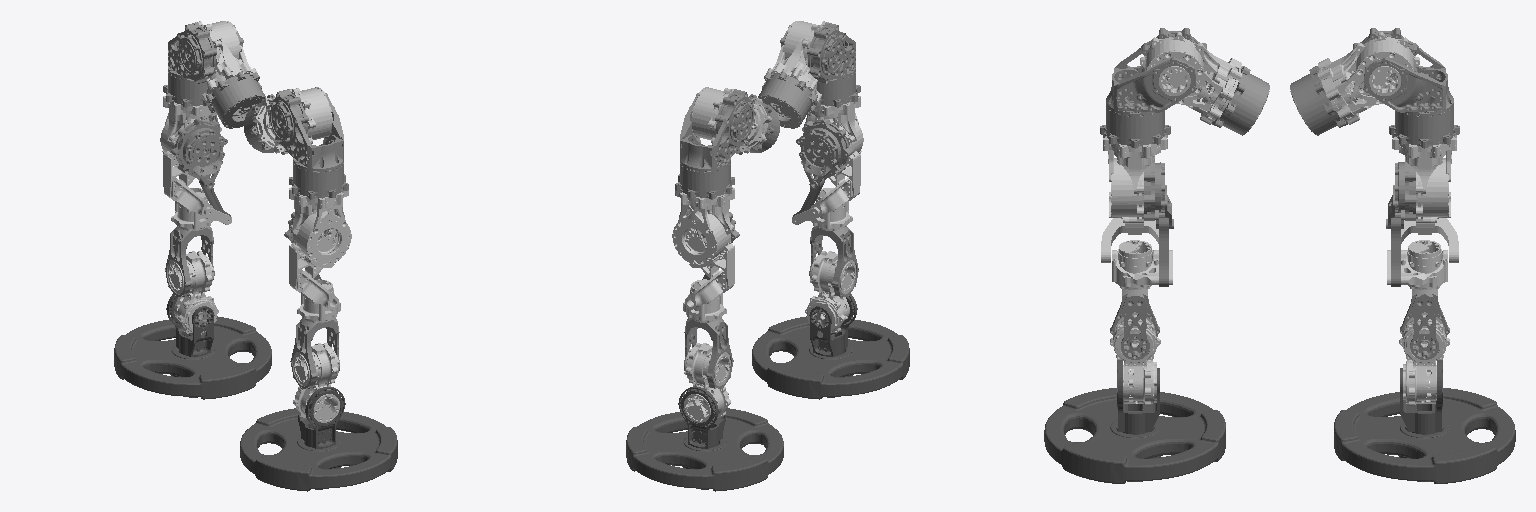
--- What the picture shows (computed from the rendered views, not written in the file) ---
The picture shows the robot from 3 angles, left to right: view 1: azimuth 30°, elevation 25°; view 2: azimuth 150°, elevation 25°; view 3: azimuth 270°, elevation 25°; orthographic projection.
Model raipal_stub-5 with 30 links and 29 joints (18 revolute, 11 fixed), rooted at world, posed all joints at 0.
Links seen in each view (by area): view 1: R_stub, L_stub, R_shoulder, R_humerus, L_shoulder, L_humerus, L_elb_input, R_carpal, L_carpal, L_base, R_collar, L_collar (+5 smaller); view 2: L_stub, R_stub, L_shoulder, L_humerus, R_shoulder, R_humerus, R_elb_input, L_carpal, R_carpal, R_base, L_collar, R_collar (+5 smaller); view 3: R_stub, L_stub, L_shoulder, R_shoulder, R_collar, L_collar, R_humerus, L_humerus, R_carpal, L_carpal, R_ulna, L_ulna (+8 smaller).
Link boxes in pixels (x1,y1,x2,y2): R_stub: [240, 387, 397, 491]; L_stub: [114, 294, 271, 399]; R_shoulder: [268, 89, 348, 199]; R_humerus: [289, 187, 351, 309]; L_shoulder: [163, 22, 243, 107]; L_humerus: [160, 96, 221, 217]; L_elb_input: [171, 119, 227, 189]; R_carpal: [293, 343, 339, 422]; L_carpal: [168, 251, 218, 334]; L_base: [206, 71, 265, 128]; R_collar: [252, 87, 332, 153]; L_collar: [195, 21, 259, 102]; L_stub: [626, 386, 783, 491]; R_stub: [752, 294, 909, 399]; L_shoulder: [675, 89, 755, 199]; L_humerus: [672, 187, 734, 309]; R_shoulder: [780, 22, 860, 107]; R_humerus: [802, 96, 863, 217]; R_elb_input: [796, 119, 852, 189]; L_carpal: [684, 343, 730, 422]; R_carpal: [805, 251, 855, 334]; R_base: [758, 71, 817, 128]; L_collar: [691, 87, 771, 153]; R_collar: [764, 21, 828, 102]; R_stub: [1044, 360, 1225, 483]; L_stub: [1334, 360, 1515, 483]; L_shoulder: [1353, 28, 1459, 148]; R_shoulder: [1100, 28, 1206, 148]; R_collar: [1140, 32, 1241, 124]; L_collar: [1318, 32, 1419, 124]; R_humerus: [1101, 135, 1167, 262]; L_humerus: [1392, 135, 1458, 262]; R_carpal: [1110, 313, 1160, 405]; L_carpal: [1399, 313, 1449, 405]; R_ulna: [1112, 240, 1172, 289]; L_ulna: [1387, 240, 1447, 289].
Size in the robot's own frame: 0.276 by 0.716 by 0.7385 metres.
22 mesh visuals loaded from 21 distinct referenced files (21 binary STL).

The robot description file, URDF, robot "raipal_stub-5":
<?xml version="1.0" encoding="utf-8"?>
<robot name="raipal_stub-5">
  <!-- [URDF-WRITER] Created with urdf-writer script (by CHH) on 2026-01-27 21:55:36.760474-->

  <!-- [URDF-WRITER] from module [_fixed-base] -->

  <!-- this link makes the robot fixed-base in RAISIM -->
  <link name="world"></link>

  <link name="base"></link>

  <joint name="base_fix" type="fixed">
    <origin xyz="0 0 0.8" rpy="0 0 0"/>
    <parent link="world" />
    <child link="base" />
    <axis xyz="0 0 0" />
  </joint>


  <!-- [URDF-WRITER] from module [raipal_R] -->

  <link name="R_base">
    <!-- CHH / 2025-09-01-20:14 -->
    <!-- link name: [R_base]-->
    <!-- frame: [R0_base]-->
    <inertial>
      <origin 
        xyz="-0.00013000 -0.06389000 -0.05559000"
        rpy="0 0 0" />
      <mass value="0.79658000" />
      <inertia
          ixx="0.00074742"
          ixy="1.892780e-6"
          ixz="-1.179560e-6"
          iyy="0.00098187"
          iyz="-0.00013334"
          izz="0.00082394" />
    </inertial>
    <visual>
      <origin
        xyz="0 0 0"
        rpy="0 0 0" />
      <geometry>
        <mesh filename="../meshes/R_base.STL" />
      </geometry>
      <material name="">
        <color rgba=".6 .6 .6 1" />
      </material>
    </visual>
    <!--<collision>
      <origin
        xyz="0 0 0"
        rpy="0 0 0" />
      <geometry>
        <mesh filename="../meshes/R_base.STL" />
      </geometry>
    </collision>-->
  </link>

  <joint name="R_fix" type="fixed">
    <origin xyz="0 0 0" rpy="0 0 0"/>
    <parent link="base" />
    <child link="R_base" />
    <axis xyz="0 0 0" />
  </joint>

  <link name="R_collar">
    <!-- CHH / 2025-09-01-20:14 -->
    <!-- link name: [R_collar]-->
    <!-- frame: [R1_flexion]-->
    <inertial>
      <origin 
        xyz="0.00471000 -1.000000e-5 0.10057000"
        rpy="0 0 0" />
      <mass value="1.72283000" />
      <inertia
          ixx="0.00466072"
          ixy="5.127800e-7"
          ixz="-0.00028338"
          iyy="0.00434837"
          iyz="8.010400e-7"
          izz="0.00167296" />
    </inertial>
    <visual>
      <origin
        xyz="0 0 0"
        rpy="0 0 0" />
      <geometry>
        <mesh filename="../meshes/R_collar.STL" />
      </geometry>
      <material name="">
        <color rgba="0.8 0.8 0.8 1" />
      </material>
    </visual>
    <!--<collision>
      <origin
        xyz="0 0 0"
        rpy="0 0 0" />
      <geometry>
        <mesh filename="../meshes/R_collar.STL" />
      </geometry>
    </collision>-->
  </link>

  <joint name="R1_flexion" type="revolute"> <!--[0]-->
    <origin
      xyz="0 -0.037198 -0.0709"
      rpy="1.0472 0 0" />
    <parent link="R_base" />
    <child link="R_collar" />
    <axis
      xyz="0 0 1" />
    <limit
      lower="-1.57"
      upper="3.14"
      effort="181"
      velocity="13.9" />
    <dynamics rotor_inertia = "0.0576402034658611" /> <!-- CHH / 2025-09-01-20:30-->
  </joint>

  <link name="R_shoulder">
    <!-- CHH / 2025-09-01-20:14 -->
    <!-- link name: [R_shoulder]-->
    <!-- frame: [R2_adduction]-->
    <inertial>
      <origin 
        xyz="-0.03309000 0.04277000 0.04408000"
        rpy="0 0 0" />
      <mass value="1.92988000" />
      <inertia
          ixx="0.00554587"
          ixy="0.00224326"
          ixz="-0.00046924"
          iyy="0.00422168"
          iyz="0.00058524"
          izz="0.00699049" />
    </inertial>
    <visual>
      <origin
        xyz="0 0 0"
        rpy="0 0 0" />
      <geometry>
        <mesh filename="../meshes/R_shoulder.STL" />
      </geometry>
      <material name="">
        <color rgba="0.6 0.6 0.6 1" />
      </material>
    </visual>
    <!--<collision>
      <origin
        xyz="0 0 0"
        rpy="0 0 0" />
      <geometry>
        <mesh filename="../meshes/R_shoulder.STL" />
      </geometry>
    </collision>-->
  </link>

  <joint name="R2_adduction" type="revolute"> <!--[1]-->
    <origin
      xyz="0.0373 0 0.1418"
      rpy="-1.5707963267949 1.0472 1.5707963267949" />
    <parent link="R_collar" />
    <child link="R_shoulder" />
    <axis
      xyz="0 0 -1" />
    <limit
      lower="-2.618"
      upper="0.488"
      effort="181"
      velocity="13.9" />
    <dynamics rotor_inertia = "0.0576402034658611" /> <!-- CHH / 2025-09-01-20:30-->
  </joint>

  <link name="R_humerus">
    <!-- CHH / 2025-09-01-20:14 -->
    <!-- link name: [R_humerus]-->
    <!-- frame: [R3_rotation]-->
    <inertial>
      <origin 
        xyz="-0.00369000 0.00351000 0.11625000"
        rpy="0 0 0" />
      <mass value="1.96262000" />
      <inertia
          ixx="0.00777442"
          ixy="-1.197057e-5"
          ixz="0.00065917"
          iyy="0.00822155"
          iyz="-0.00015972"
          izz="0.00201683" />
    </inertial>
    <visual>
      <origin
        xyz="0 0 0"
        rpy="0 0 0" />
      <geometry>
        <mesh filename="../meshes/R_humerus.STL" />
      </geometry>
      <material name="">
        <color rgba="0.8 0.8 0.8 1" />
      </material>
    </visual>
    <!--<collision>
      <origin
        xyz="0 0 0"
        rpy="0 0 0" />
      <geometry>
        <mesh filename="../meshes/R_humerus.STL" />
      </geometry>
    </collision>-->
  </link>

  <joint name="R3_rotation" type="revolute"> <!--[2]-->
    <origin
      xyz="-0.06 0.06025 0.0373"
      rpy="-1.5707963267949 1.5707963267949 0" />
    <parent link="R_shoulder" />
    <child link="R_humerus" />
    <axis
      xyz="0 0 -1" />
    <limit
      lower="-3.14"
      upper="3.14"
      effort="181"
      velocity="13.9" />
    <dynamics rotor_inertia = "0.0576402034658611" /> <!-- CHH / 2025-09-01-20:30-->
  </joint>

  <link name="R_elb_input">
    <!-- CHH / 2025-09-01-20:14 -->
    <!-- link name: [R_elb_input]-->
    <!-- frame: [R4a_elbow_power]-->
    <inertial>
      <origin 
        xyz="-2.000000e-5 0.00335000 0.05897000"
        rpy="0 0 0" />
      <mass value="0.83412000" />
      <inertia
          ixx="0.00071114"
          ixy="7.660000e-7"
          ixz="-9.255500e-7"
          iyy="0.00059983"
          iyz="-5.504818e-5"
          izz="0.00080767" />
    </inertial>
    <visual>
      <origin
        xyz="0 0 0"
        rpy="0 0 0" />
      <geometry>
        <mesh filename="../meshes/R_elb_input.STL" />
      </geometry>
      <material name="">
        <color rgba="0.6 0.6 0.6 1" />
      </material>
    </visual>
    <!--<collision>
      <origin
        xyz="0 0 0"
        rpy="0 0 0" />
      <geometry>
        <mesh filename="../meshes/R_elb_input.STL" />
      </geometry>
    </collision>-->
  </link>

  <joint name="R4a_elbow_power" type="revolute"> <!--[3]-->
    <origin
      xyz="0 0.0373 0.1418"
      rpy="1.5707963267949 0 0" />
    <parent link="R_humerus" />
    <child link="R_elb_input" />
    <axis
      xyz="0 0 1" />
    <limit
      lower="0"
      upper="1.556"
      effort="181"
      velocity="13.9" />
    <dynamics rotor_inertia = "0.0576402034658611" /> <!-- CHH / 2025-09-01-20:30-->
  </joint>

  <link name="R_elb_bar">
    <!-- CHH / 2025-09-01-20:14 -->
    <!-- link name: [R_elb_bar]-->
    <!-- frame: [R4b_elbow_bar_input]-->
    <inertial>
      <origin 
        xyz="0.04274000 0.00159000 -4.000000e-5"
        rpy="0 0 0" />
      <mass value="0.05314000" />
      <inertia
          ixx="2.335610e-6"
          ixy="0.0"
          ixz="0.0"
          iyy="6.149582e-5"
          iyz="-3.110000e-9"
          izz="6.199993e-5" />
    </inertial>
    <visual>
      <origin
        xyz="0 0 0"
        rpy="0 0 0" />
      <geometry>
        <mesh filename="../meshes/R_elb_bar.STL" />
      </geometry>
      <material name="">
        <color rgba="0.5 0.5 0.5 1" />
      </material>
    </visual>
    <!--<collision>
      <origin
        xyz="0 0 0"
        rpy="0 0 0" />
      <geometry>
        <mesh filename="../meshes/R_elb_bar.STL" />
      </geometry>
    </collision>-->
  </link>

  <joint name="R4b_elbow_bar_input" type="revolute"> <!--[4-unpowered]-->
    <origin
      xyz="0.00134978286029327 0.0599848154638326 0.0812119041053838"
      rpy="0 0 1.12941902735751" />
    <parent link="R_elb_input" />
    <child link="R_elb_bar" />
    <axis
      xyz="0 0 -1" />
    <limit
      lower="0"
      upper="1.802"
      effort="0"
      velocity="100" />
  </joint>

  <link name="R_ulna">
    <!-- CHH / 2025-09-01-20:14 -->
    <!-- link name: [R_ulna]-->
    <!-- frame: [R4_elbow]-->
    <inertial>
      <origin 
        xyz="0.00533000 0.01576000 -0.03891000"
        rpy="0 0 0" />
      <mass value="0.36947000" />
      <inertia
          ixx="0.00032310"
          ixy="-1.385696e-5"
          ixz="-4.244104e-5"
          iyy="0.00036383"
          iyz="-5.919040e-6"
          izz="0.00020708" />
    </inertial>
    <visual>
      <origin
        xyz="0 0 0"
        rpy="0 0 0" />
      <geometry>
        <mesh filename="../meshes/R_ulna.STL" />
      </geometry>
      <material name="">
        <color rgba="0.8 0.8 0.8 1" />
      </material>
    </visual>
    <!--<collision>
      <origin
        xyz="0 0 0"
        rpy="0 0 0" />
      <geometry>
        <mesh filename="../meshes/R_ulna.STL" />
      </geometry>
    </collision>-->
  </link>

  <joint name="R4_elbow" type="revolute"> <!--[5-unpowered]-->
    <origin
      xyz="0 -0.0439119041053754 0.25475"
      rpy="1.5707963267949 0 0" />
    <parent link="R_humerus" />
    <child link="R_ulna" />
    <axis
      xyz="0 0 -1" />
    <limit
      lower="0"
      upper="2.2689"
      effort="0"
      velocity="100" />
  </joint>

  <link name="R_radius">
    <!-- CHH / 2025-09-01-20:14 -->
    <inertial>
      <origin 
        xyz="0.00151000 0.0 0.10290000"
        rpy="0 0 0" />
      <mass value="0.42307000" />
      <inertia
          ixx="0.00112662"
          ixy="-1.975000e-8"
          ixz="-5.589578e-5"
          iyy="0.00120471"
          iyz="1.556000e-8"
          izz="0.00024138" />
    </inertial>
    <visual>
      <origin
        xyz="0 0 0"
        rpy="0 0 0" />
      <geometry>
        <mesh filename="../meshes/R_radius.STL" />
      </geometry>
      <material name="">
        <color rgba="0.6 0.6 0.6 1" />
      </material>
    </visual>
    <!--</collision>
      <origin
        xyz="0 0 0"
        rpy="0 0 0" />
      <geometry>
        <mesh filename="../meshes/R_radius.STL" />
      </geometry>
    </collision>-->
  </link>

  <joint name="R5_roll" type="revolute">  <!--[6]-->
    <origin
      xyz="0 -0.0135819531869474 -0.0439119041053754"
      rpy="-1.5707963267949 0 0" />
    <parent link="R_ulna" />
    <child link="R_radius" />
    <axis
      xyz="0 0 -1" />
    <limit
      lower="-1.57"
      upper="1.57"
      effort="12.61"
      velocity="53.8" />
    <dynamics rotor_inertia = "0.000540543349430043" /> <!-- CHH / 2025-09-01-20:30-->
  </joint>

  <link name="R_carpal">
    <!-- CHH / 2025-09-01-20:14 -->
    <inertial>
      <origin 
        xyz="-0.00117000 0.03421000 0.02964000"
        rpy="0 0 0" />
      <mass value="0.67981000" />
      <inertia
          ixx="0.00128813"
          ixy="3.134577e-5"
          ixz="3.268690e-6"
          iyy="0.00040998"
          iyz="-9.323146e-5"
          izz="0.00126953" />
    </inertial>
    <visual>
      <origin
        xyz="0 0 0"
        rpy="0 0 0" />
      <geometry>
        <mesh filename="../meshes/R_carpal.STL" />
      </geometry>
      <material name="">
        <color rgba="0.8 0.8 0.8 1" />
      </material>
    </visual>
    <!--</collision>
      <origin
        xyz="0 0 0"
        rpy="0 0 0" />
      <geometry>
        <mesh filename="../meshes/R_carpal.STL" />
      </geometry>
    </collision>-->
  </link>

  <joint name="R6_pitch" type="revolute">  <!--[7]-->
    <origin
      xyz="-0.0337 0 0.153581953186935"
      rpy="1.5707963267949 0 1.5707963267949" />
    <parent link="R_radius" />
    <child link="R_carpal" />
    <axis
      xyz="0 0 1" />
    <limit
      lower="-2.0944"
      upper="2.0944"
      effort="12.61"
      velocity="53.8" />
    <dynamics rotor_inertia = "0.000540543349430043" /> <!-- CHH / 2025-09-01-20:30-->
  </joint>

  <link name="R_ee">
    <!-- CHH / 2025-09-01-20:14 -->
    <inertial>
      <origin 
        xyz="0.0 0.0 0.04531000"
        rpy="0 0 0" />
      <mass value="0.13143000" />
      <inertia
          ixx="3.339173e-5"
          ixy="0.0"
          ixz="0.0"
          iyy="3.339173e-5"
          iyz="0.0"
          izz="4.133016e-5" />
    </inertial>
    <visual>
      <origin
        xyz="0 0 0"
        rpy="0 0 0" />
      <geometry>
        <mesh filename="../meshes/R_ee.STL" />
      </geometry>
      <material name="">
        <color rgba="0.6 0.6 0.6 1" />
      </material>
    </visual>
    <!--</collision>
      <origin
        xyz="0 0 0"
        rpy="0 0 0" />
      <geometry>
        <mesh filename="../meshes/R_ee.STL" />
      </geometry>
    </collision>-->
  </link>

  <joint name="R7_yaw" type="revolute">  <!--[8]-->
    <origin
      xyz="0.0264 0.073 0.0337"
      rpy="0 -1.5707963267949 0" />
    <parent link="R_carpal" />
    <child link="R_ee" />
    <axis
      xyz="0 0 -1" />
    <limit
      lower="-1.57079"
      upper="1.57079"
      effort="12.61"
      velocity="53.8" />
    <dynamics rotor_inertia = "0.000540543349430043" /> <!-- CHH / 2025-09-01-20:30-->
  </joint>

  <!-- Imaginary links for loop closure -->
  <link name="R_loop_barside"></link>

  <joint name="R4cA_elbow_loop_bar" type="fixed">
    <origin
      xyz="0.0854747786370337 0 0"
      rpy="0 0 0" />
    <parent link="R_elb_bar" />
    <child link="R_loop_barside" />
    <axis
      xyz="0 0 1" />
    <!-- relaxed limits since others are constrained -->
    <limit
      lower="-3.14"
      upper="3.14"
      effort="0"
      velocity="100" />
  </joint>

  <link name="R_loop_ulnaside"></link>

  <joint name="R4cB_elbow_loop_ulna_fixed" type="fixed">
    <origin
      xyz="0.0378633410992504 0.0243180468130526 0"
      rpy="0 0 1.12941902735751" />
    <parent link="R_ulna" />
    <child link="R_loop_ulnaside" />
    <axis
      xyz="0 0 0" />
  </joint>

  
  <!-- [URDF-WRITER] from module [stub-5_R] -->
  <link name="R_stub">
    <!-- CHH / 2025-10-17-21:18 -->
    <!-- link name: [stub-5]-->
    <!-- frame: [RE_end-effector]-->
    <inertial>
      <origin 
        xyz="5.000000e-5 -0.08895000 0.02623000"
        rpy="0 0 0" />
      <mass value="5.52298000" />
      <inertia
          ixx="0.02835114"
          ixy="7.398080e-6"
          ixz="2.272770e-6"
          iyy="0.05347586"
          iyz="0.00010221"
          izz="0.02830810" />
    </inertial>
    <visual>
      <origin
        xyz="0 0 0"
        rpy="0 0 0" />
      <geometry>
        <mesh filename="../meshes/stub_5.STL" />
      </geometry>
      <material name="">
        <color rgba="0.4 0.4 0.4 1" />
      </material>
    </visual>
  </link>

  <joint name="RE_end_effector_fixed" type="fixed">
    <origin
      xyz="0 0 0"
      rpy="0 0 3.141592" />
    <parent link="R_ee" />
    <child link="R_stub" />
    <axis
      xyz="0 0 0" />
  </joint>


  <link name="R_stub-tip"></link>

  <joint name="RE_tip_fixed" type="fixed">
    <origin
      xyz="0 -0.157 0.0264"
      rpy="-1.5708 0 3.141592" />
    <parent link="R_stub" />
    <child link="R_stub-tip" />
    <axis
      xyz="0 0 0" />
  </joint>
  <!-- [URDF-WRITER] from module [raipal_L] -->

  <link name="L_base">
    <!-- CHH / 2025-09-01-20:14 -->
    <!-- mirrored from [L_base] (frame: R0_base)-->
    <inertial>
      <origin 
        xyz="-0.00013000 0.06389000 -0.05559000"
        rpy="0 0 0" />
      <mass value="0.79658000" />
      <inertia
          ixx="0.00074742"
          ixy="-1.892780e-6"
          ixz="-1.179560e-6"
          iyy="0.00098187"
          iyz="0.00013334"
          izz="0.00082394" />
    </inertial>
    <visual>
      <origin
        xyz="0 0 0"
        rpy="0 0 0" />
      <geometry>
        <mesh filename="../meshes/L_base.STL" />
      </geometry>
      <material name="">
        <color rgba=".6 .6 .6 1" />
      </material>
    </visual>
    <!--</collision>
      <origin
        xyz="0 0 0"
        rpy="0 0 0" />
      <geometry>
        <mesh filename="../meshes/L_base.STL" />
      </geometry>
    </collision>-->
  </link>

  <joint name="L_fix" type="fixed">
    <origin xyz="0 0 0" rpy="0 0 0"/>
    <parent link="base" />
    <child link="L_base" />
    <axis xyz="0 0 0" />
  </joint>

  <link name="L_collar">
    <!-- CHH / 2025-09-01-20:14 -->
    <!-- mirrored from [L_collar] (frame: R1_flexion)-->
    <inertial>
      <origin 
        xyz="0.00471000 1.000000e-5 0.10057000"
        rpy="0 0 0" />
      <mass value="1.72283000" />
      <inertia
          ixx="0.00466072"
          ixy="-5.127800e-7"
          ixz="-0.00028338"
          iyy="0.00434837"
          iyz="-8.010400e-7"
          izz="0.00167296" />
    </inertial>
    <visual>
      <origin
        xyz="0 0 0"
        rpy="0 0 0" />
      <geometry>
        <mesh filename="../meshes/L_collar.STL" />
      </geometry>
      <material name="">
        <color rgba="0.8 0.8 0.8 1" />
      </material>
    </visual>
    <!--</collision>
      <origin
        xyz="0 0 0"
        rpy="0 0 0" />
      <geometry>
        <mesh filename="../meshes/L_collar.STL" />
      </geometry>
    </collision>-->
  </link>

  <joint name="L1_flexion" type="revolute"> <!--[0]-->
    <origin
      xyz="0 0.037198 -0.0709"
      rpy="-1.0472 0 0" />
    <parent link="L_base" />
    <child link="L_collar" />
    <axis
      xyz="0 0 -1" />
    <limit
      lower="-1.57"
      upper="3.14"
      effort="181"
      velocity="13.9" />
    <dynamics rotor_inertia = "0.0576402034658611" />
    <!-- Calculated by CHH on 2025-09-01-20:14-->  
  </joint>

  <link name="L_shoulder">
    <!-- CHH / 2025-09-01-20:14 -->
    <!-- mirrored from [L_shoulder] (frame: R2_adduction)-->
    <inertial>
      <origin 
        xyz="-0.03309000 -0.04277000 0.04408000"
        rpy="0 0 0" />
      <mass value="1.92988000" />
      <inertia
          ixx="0.00554587"
          ixy="-0.00224326"
          ixz="-0.00046924"
          iyy="0.00422168"
          iyz="-0.00058524"
          izz="0.00699049" />
    </inertial>
    <visual>
      <origin
        xyz="0 0 0"
        rpy="0 0 0" />
      <geometry>
        <mesh filename="../meshes/L_shoulder.STL" />
      </geometry>
      <material name="">
        <color rgba="0.6 0.6 0.6 1" />
      </material>
    </visual>
    <!--</collision>
      <origin
        xyz="0 0 0"
        rpy="0 0 0" />
      <geometry>
        <mesh filename="../meshes/L_shoulder.STL" />
      </geometry>
    </collision>-->
  </link>

  <joint name="L2_adduction" type="revolute"> <!--[1]-->
    <origin
      xyz="0.0373 0 0.1418"
      rpy="1.5707963267949 1.0472 -1.5707963267949" />
    <parent link="L_collar" />
    <child link="L_shoulder" />
    <axis
      xyz="0 0 1" />
    <limit
      lower="-2.618"
      upper="0.488"
      effort="181"
      velocity="13.9" />
    <dynamics rotor_inertia = "0.0576402034658611" /> <!-- CHH / 2025-09-01-20:30-->
  </joint>

  <link name="L_humerus">
    <!-- CHH / 2025-09-01-20:14 -->
    <!-- mirrored from [L_humerus] (frame: R3_rotation)-->
    <inertial>
      <origin 
        xyz="-0.00369000 -0.00351000 0.11625000"
        rpy="0 0 0" />
      <mass value="1.96262000" />
      <inertia
          ixx="0.00777442"
          ixy="1.197057e-5"
          ixz="0.00065917"
          iyy="0.00822155"
          iyz="0.00015972"
          izz="0.00201683" />
    </inertial>
    <visual>
      <origin
        xyz="0 0 0"
        rpy="0 0 0" />
      <geometry>
        <mesh filename="../meshes/L_humerus.STL" />
      </geometry>
      <material name="">
        <color rgba="0.8 0.8 0.8 1" />
      </material>
    </visual>
    <!--</collision>
      <origin
        xyz="0 0 0"
        rpy="0 0 0" />
      <geometry>
        <mesh filename="../meshes/L_humerus.STL" />
      </geometry>
    </collision>-->
  </link>

  <joint name="L3_rotation" type="revolute"> <!--[2]-->
    <origin
      xyz="-0.06 -0.06025 0.0373"
      rpy="1.5707963267949 1.5707963267949 0" />
    <parent link="L_shoulder" />
    <child link="L_humerus" />
    <axis
      xyz="0 0 1" />
    <limit
      lower="-3.14"
      upper="3.14"
      effort="181"
      velocity="13.9" />
    <dynamics rotor_inertia = "0.0576402034658611" /> <!-- CHH / 2025-09-01-20:30-->
  </joint>

  <link name="L_elb_input">
    <!-- CHH / 2025-09-01-20:14 -->
    <!-- mirrored from [L_elb_input] (frame: R4a_elbow_power)-->
    <inertial>
      <origin 
        xyz="-2.000000e-5 -0.00335000 0.05897000"
        rpy="0 0 0" />
      <mass value="0.83412000" />
      <inertia
          ixx="0.00071114"
          ixy="-7.660000e-7"
          ixz="-9.255500e-7"
          iyy="0.00059983"
          iyz="5.504818e-5"
          izz="0.00080767" />
    </inertial>
    <visual>
      <origin
        xyz="0 0 0"
        rpy="0 0 0" />
      <geometry>
        <mesh filename="../meshes/L_elb_input.STL" />
      </geometry>
      <material name="">
        <color rgba="0.6 0.6 0.6 1" />
      </material>
    </visual>
    <!--</collision>
      <origin
        xyz="0 0 0"
        rpy="0 0 0" />
      <geometry>
        <mesh filename="../meshes/L_elb_input.STL" />
      </geometry>
    </collision>-->
  </link>

  <joint name="L4a_elbow_power" type="revolute"> <!--[3]-->
    <origin
      xyz="0 -0.0373 0.1418"
      rpy="-1.5707963267949 0 0" />
    <parent link="L_humerus" />
    <child link="L_elb_input" />
    <axis
      xyz="0 0 -1" />
    <limit
      lower="0"
      upper="1.556"
      effort="181"
      velocity="13.9" />
    <dynamics rotor_inertia = "0.0576402034658611" /> <!-- CHH / 2025-09-01-20:30-->
  </joint>

  <link name="L_elb_bar">
    <!-- CHH / 2025-09-01-20:14 -->
    <!-- mirrored from [L_elb_bar] (frame: R4b_elbow_bar_input)-->
    <inertial>
      <origin 
        xyz="0.04274000 -0.00159000 -4.000000e-5"
        rpy="0 0 0" />
      <mass value="0.05314000" />
      <inertia
          ixx="2.335610e-6"
          ixy="0.0"
          ixz="0.0"
          iyy="6.149582e-5"
          iyz="3.110000e-9"
          izz="6.199993e-5" />
    </inertial>
    <visual>
      <origin
        xyz="0 0 0"
        rpy="0 0 0" />
      <geometry>
        <mesh filename="../meshes/L_elb_bar.STL" />
      </geometry>
      <material name="">
        <color rgba="0.5 0.5 0.5 1" />
      </material>
    </visual>
    <!--</collision>
      <origin
        xyz="0 0 0"
        rpy="0 0 0" />
      <geometry>
        <mesh filename="../meshes/L_elb_bar.STL" />
      </geometry>
    </collision>-->
  </link>

  <joint name="L4b_elbow_bar_input" type="revolute">  <!--[4-unpowered]-->
    <origin
      xyz="0.00134978286029327 -0.0599848154638326 0.0812119041053838"
      rpy="0 0 -1.12941902735751" />
    <parent link="L_elb_input" />
    <child link="L_elb_bar" />
    <axis
      xyz="0 0 1" />
    <limit
      lower="0"
      upper="1.802"
      effort="0"
      velocity="100" />
  </joint>

  <link name="L_ulna">
    <!-- CHH / 2025-09-01-20:14 -->
    <!-- mirrored from [L_ulna] (frame: R4_elbow)-->
    <inertial>
      <origin 
        xyz="0.00533000 -0.01576000 -0.03891000"
        rpy="0 0 0" />
      <mass value="0.36947000" />
      <inertia
          ixx="0.00032310"
          ixy="1.385696e-5"
          ixz="-4.244104e-5"
          iyy="0.00036383"
          iyz="5.919040e-6"
          izz="0.00020708" />
    </inertial>
    <visual>
      <origin
        xyz="0 0 0"
        rpy="0 0 0" />
      <geometry>
        <mesh filename="../meshes/L_ulna.STL" />
      </geometry>
      <material name="">
        <color rgba="0.8 0.8 0.8 1" />
      </material>
    </visual>
    <!--</collision>
      <origin
        xyz="0 0 0"
        rpy="0 0 0" />
      <geometry>
        <mesh filename="../meshes/L_ulna.STL" />
      </geometry>
    </collision>-->
  </link>

  <joint name="L4_elbow" type="revolute">  <!--[5-unpowered]-->
    <origin
      xyz="0 0.043912 0.25475"
      rpy="-1.5707963267949 0 0" />
    <parent link="L_humerus" />
    <child link="L_ulna" />
    <axis
      xyz="0 0 1" />
    <limit
      lower="0"
      upper="2.2689"
      effort="0"
      velocity="100" />
  </joint>

  <link name="L_radius">
    <!-- CHH / 2025-09-01-20:14 -->
    <!-- link name: [L_radius]-->
    <!-- frame: [L5_roll]-->
    <inertial>
      <origin 
        xyz="0.00151000 0.0 0.10290000"
        rpy="0 0 0" />
      <mass value="0.42307000" />
      <inertia
          ixx="0.00112662"
          ixy="1.975000e-8"
          ixz="-5.589578e-5"
          iyy="0.00120471"
          iyz="-1.556000e-8"
          izz="0.00024138" />
    </inertial>
    <visual>
      <origin
        xyz="0 0 0"
        rpy="0 0 0" />
      <geometry>
        <mesh filename="../meshes/L_radius.STL" />
      </geometry>
      <material name="">
        <color rgba="0.6 0.6 0.6 1" />
      </material>
    </visual>
    <!--<collision>
      <origin
        xyz="0 0 0"
        rpy="0 0 0" />
      <geometry>
        <mesh filename="../meshes/L_radius.STL" />
      </geometry>
    </collision>-->
  </link>

  <joint name="L5_roll" type="revolute"> <!--[6]-->
    <origin
      xyz="0 0.0135819531869474 -0.0439119041053754"
      rpy="1.5707963267949 0 0" />
    <parent link="L_ulna" />
    <child link="L_radius" />
    <axis
      xyz="0 0 1" />
    <limit
      lower="-1.57"
      upper="1.57"
      effort="12.61"
      velocity="53.8" />
    <dynamics rotor_inertia = "0.000540543349430043" /> <!-- CHH / 2025-09-01-20:30-->
  </joint>

  <link name="L_carpal">
    <!-- CHH / 2025-09-01-20:14 -->
    <!-- link name: [L_carpal]-->
    <!-- frame: [L6_pitch]-->
    <inertial>
      <origin 
        xyz="-0.00117000 -0.03421000 0.02964000"
        rpy="0 0 0" />
      <mass value="0.67981000" />
      <inertia
          ixx="0.00128813"
          ixy="-3.134577e-5"
          ixz="3.268690e-6"
          iyy="0.00040998"
          iyz="9.323146e-5"
          izz="0.00126953" />
    </inertial>
    <visual>
      <origin
        xyz="0 0 0"
        rpy="0 0 0" />
      <geometry>
        <mesh filename="../meshes/L_carpal.STL" />
      </geometry>
      <material name="">
        <color rgba="0.8 0.8 0.8 1" />
      </material>
    </visual>
    <!--<collision>
      <origin
        xyz="0 0 0"
        rpy="0 0 0" />
      <geometry>
        <mesh filename="../meshes/L_carpal.STL" />
      </geometry>
    </collision>-->
  </link>

  <joint name="L6_pitch" type="revolute"> <!--[7]-->
    <origin
      xyz="-0.0337 0 0.153581953186935"
      rpy="-1.5707963267949 0 -1.5707963267949" />
    <parent link="L_radius" />
    <child link="L_carpal" />
    <axis
      xyz="0 0 -1" />
    <limit
      lower="-2.0944"
      upper="2.0944"
      effort="12.61"
      velocity="53.8" />
    <dynamics rotor_inertia = "0.000540543349430043" /> <!-- CHH / 2025-09-01-20:30-->
  </joint>

  <link name="L_ee">
    <!-- CHH / 2025-09-01-20:14 -->
    <!-- link name: [L_ee]-->
    <!-- frame: [L7_yaw]-->
    <inertial>
      <origin 
        xyz="0.0 0.0 0.04531000"
        rpy="0 0 0" />
      <mass value="0.13143000" />
      <inertia
          ixx="3.339173e-5"
          ixy="0.0"
          ixz="0.0"
          iyy="3.339173e-5"
          iyz="0.0"
          izz="4.133016e-5" />
    </inertial>
    <visual>
      <origin
        xyz="0 0 0"
        rpy="0 0 0" />
      <geometry>
        <mesh filename="../meshes/L_ee.STL" />
      </geometry>
      <material name="">
        <color rgba="0.6 0.6 0.6 1" />
      </material>
    </visual>
    <!--<collision>
      <origin
        xyz="0 0 0"
        rpy="0 0 0" />
      <geometry>
        <mesh filename="../meshes/L_ee.STL" />
      </geometry>
    </collision>-->
  </link>

  <joint name="L7_yaw" type="revolute"> <!--[8]-->
    <origin
      xyz="0.0264 -0.073 0.0337"
      rpy="0 -1.5707963267949 0" />
    <parent link="L_carpal" />
    <child link="L_ee" />
    <axis
      xyz="0 0 1" />
    <limit
      lower="-1.57079"
      upper="1.57079"
      effort="12.61"
      velocity="53.8" />
    <dynamics rotor_inertia = "0.000540543349430043" /> <!-- CHH / 2025-09-01-20:30-->
  </joint>

  <!-- imaginary links for loop closure -->
  <link name="L_loop_barside"></link>

  <joint name="L4cA_elbow_loop_bar" type="fixed">
    <origin
      xyz="0.0854747786370337 0 0"
      rpy="0 0 0" />
    <parent link="L_elb_bar" />
    <child link="L_loop_barside" />
    <axis
      xyz="0 0 -1" />
    <limit
      lower="-3.14"
      upper="3.14"
      effort="0"
      velocity="100" />
  </joint>

  <link name="L_loop_ulnaside"></link>

  <joint name="L4cB_elbow_loop_ulna_fixed" type="fixed">
    <origin
      xyz="0.0378633410992504 -0.0243180468130526 0"
      rpy="0 0 -1.12941902735751" />
    <parent link="L_ulna" />
    <child link="L_loop_ulnaside" />
    <axis
      xyz="0 0 0" />
  </joint>

  

  <!-- [URDF-WRITER] from module [stub-5_L] -->
  <link name="L_stub">
    <!-- CHH / 2025-10-17-21:18 -->
    <!-- link name: [stub-5]-->
    <!-- frame: [RE_end-effector]-->
    <inertial>
      <origin 
        xyz="5.000000e-5 -0.08895000 0.02623000"
        rpy="0 0 0" />
      <mass value="5.52298000" />
      <inertia
          ixx="0.02835114"
          ixy="7.398080e-6"
          ixz="2.272770e-6"
          iyy="0.05347586"
          iyz="0.00010221"
          izz="0.02830810" />
    </inertial>

    <visual>
      <origin
        xyz="0 0 0"
        rpy="0 0 0" />
      <geometry>
        <mesh filename="../meshes/stub_5.STL" />
      </geometry>
      <material name="">
        <color rgba="0.4 0.4 0.4 1" />
      </material>
    </visual>
  </link>

  <joint name="LE_end_effector_fixed" type="fixed">
    <origin
      xyz="0 0 0"
      rpy="0 0 0" />
    <parent link="L_ee" />
    <child link="L_stub" />
    <axis
      xyz="0 0 0" />
  </joint>

  <link name="L_stub-tip"></link>

  <joint name="LE_tip_fixed" type="fixed">
    <origin
      xyz="0 -0.157 0.0264"
      rpy="+1.5708 0 0" />
    <parent link="L_stub" />
    <child link="L_stub-tip" />
    <axis
      xyz="0 0 0" />
  </joint>
  <!-- [URDF-WRITER] merged constraints -->
  <constraints nominal_config="0 0 0 0 0 0 0 0 0 0 0 0 0 0 0 0 0 0 0 0 0 0 0 0 0 0 0 0 0 0 0 0 0 0 0 0 0 0 0 0 0 0">
    <pin body1="R_loop_barside" body2="R_loop_ulnaside" anchor="0.0 0.0 0.0"/>
    <pin body1="L_loop_barside" body2="L_loop_ulnaside" anchor="0.0 0.0 0.0"/>
  </constraints>

</robot>
